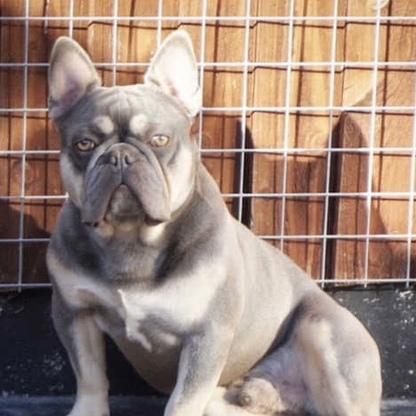bulldog: (42, 24, 384, 416)
